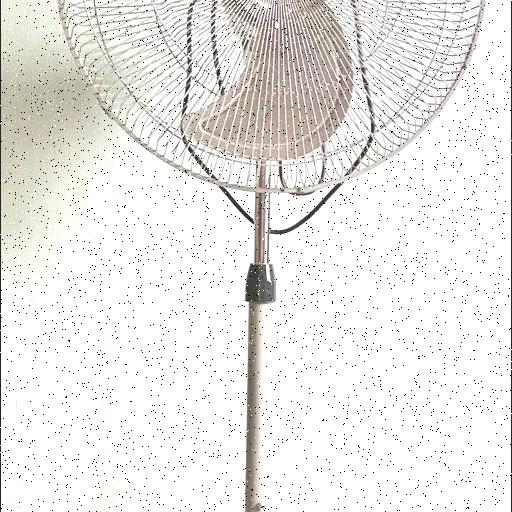Fan: (49, 0, 491, 195)
